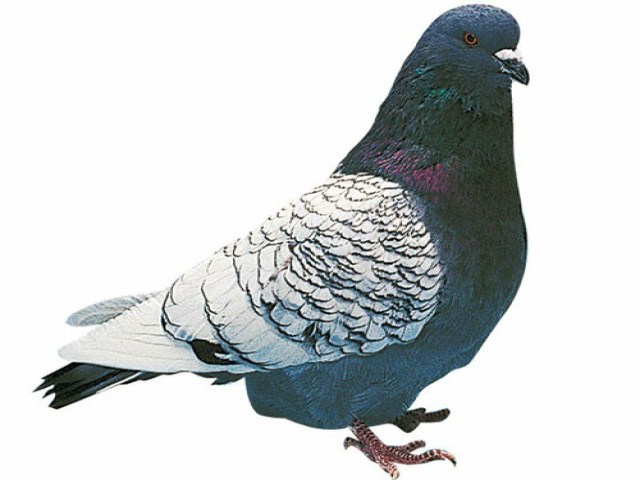Pigeon: (36, 1, 536, 473)
